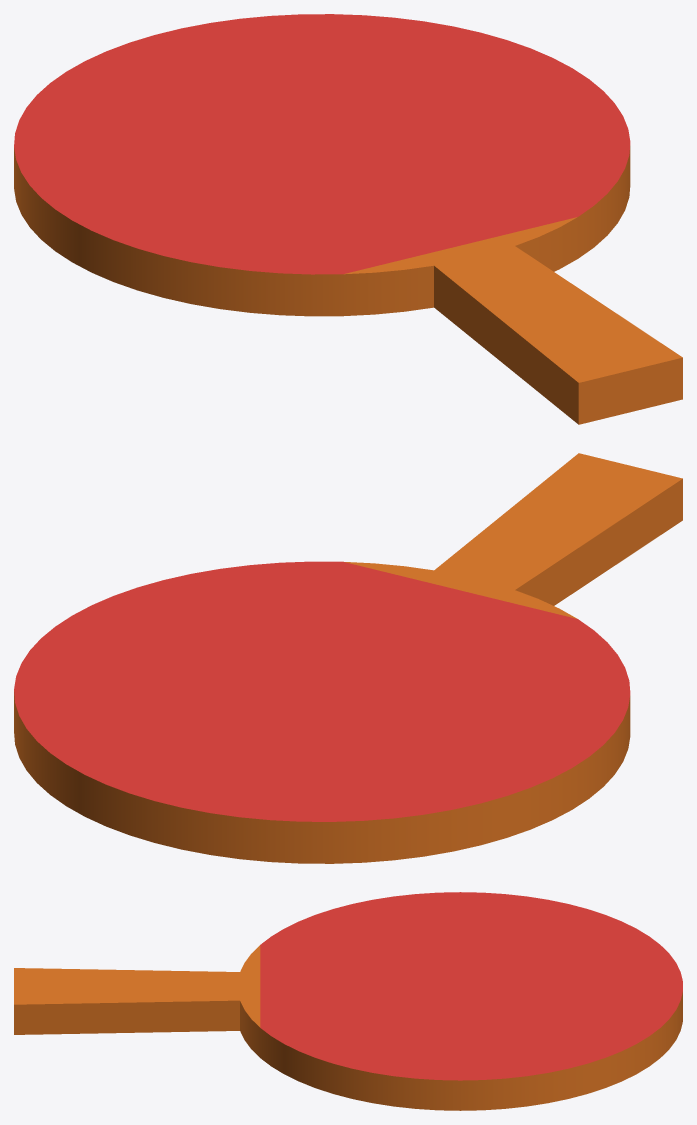
File: paddle.glb
The picture shows the model from 3 angles, top to bottom: view 1: azimuth 30°, elevation 25°; view 2: azimuth 150°, elevation 25°; view 3: azimuth 270°, elevation 25°; orthographic projection. The views are drawn at different scales.
Visible parts, largest first — view 1: Paddle; view 2: Paddle; view 3: Paddle.
Boxes of the visible parts, left/top/right/bottom form: Paddle: left=14, top=14, right=682, bottom=424; Paddle: left=14, top=453, right=682, bottom=863; Paddle: left=14, top=892, right=682, bottom=1110.
Bounding box in the file's own units: 2 × 0.15 × 3.
